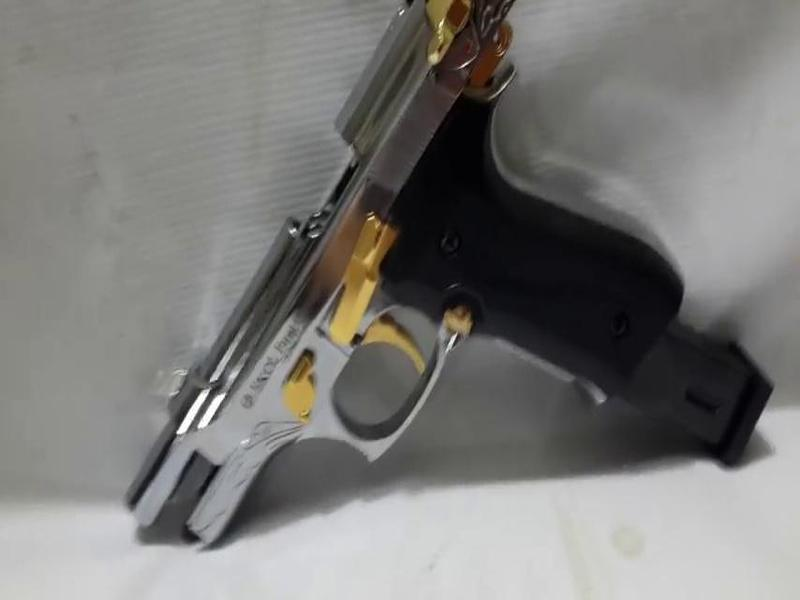Pistola: (122, 1, 694, 556)
